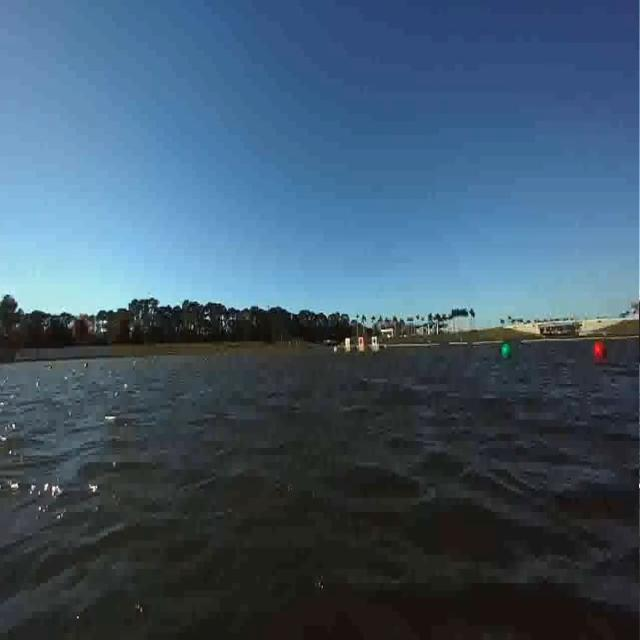green-buoy: (501, 343, 512, 359)
red-buoy: (594, 342, 606, 359)
